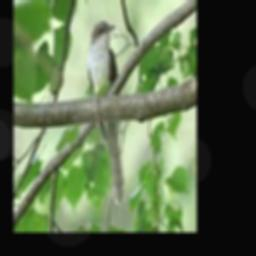Cuckoo: (87, 21, 124, 206)
